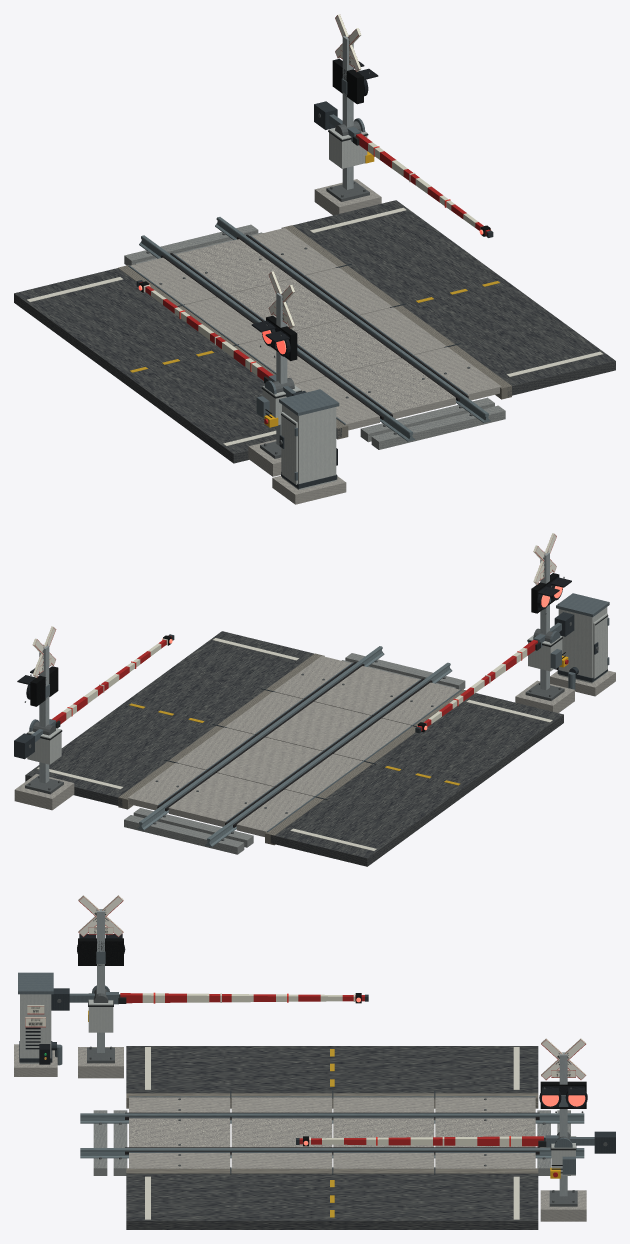
Rendered from PZ_Rail_Crossing_XR04.glb.
3 views of the same model, one above another, from view 1: azimuth 30°, elevation 25°; view 2: azimuth 150°, elevation 25°; view 3: azimuth 270°, elevation 25° (orthographic). The views are drawn at different scales.
Parts seen in each view (by area): view 1: Road_Approach_East, Road_Approach_West, Crossing_Panel_Centre_01, Crossing_Panel_Centre_04, Crossing_Panel_Centre_02, CTRL_Shell, Crossing_Panel_Centre_03, Track_Rail_Right_88m, Road_Concrete_Edge_East, Crossing_Panel_Outer_East_01, Track_Rail_Left_88m, Crossing_Panel_Outer_West_04 (+20 smaller); view 2: Road_Approach_West, Road_Approach_East, Crossing_Panel_Centre_04, Crossing_Panel_Centre_01, Crossing_Panel_Centre_02, Crossing_Panel_Centre_03, Track_Rail_Left_88m, Track_Rail_Right_88m, CTRL_Shell, Road_Concrete_Edge_East, Crossing_Panel_Outer_West_04, Crossing_Panel_Outer_East_04 (+24 smaller); view 3: Road_Approach_East, Road_Approach_West, Crossing_Panel_Centre_01, Crossing_Panel_Centre_02, Track_Rail_Left_88m, Track_Rail_Right_88m, Crossing_Panel_Centre_03, Crossing_Panel_Centre_04, Road_Concrete_Edge_East, Road_Concrete_Edge_West, Crossing_Panel_Outer_West_02, Crossing_Panel_Outer_West_03 (+22 smaller).
Part boxes in pixels (left/top/right/bottom): Road_Approach_East: left=293, top=200, right=615, bottom=396; Road_Approach_West: left=14, top=268, right=341, bottom=463; Crossing_Panel_Centre_01: left=338, top=358, right=455, bottom=418; Crossing_Panel_Centre_04: left=175, top=239, right=292, bottom=293; Crossing_Panel_Centre_02: left=295, top=318, right=400, bottom=373; CTRL_Shell: left=282, top=404, right=336, bottom=489; Crossing_Panel_Centre_03: left=230, top=278, right=346, bottom=331; Track_Rail_Right_88m: left=215, top=217, right=490, bottom=422; Road_Concrete_Edge_East: left=281, top=225, right=511, bottom=399; Crossing_Panel_Outer_East_01: left=414, top=347, right=501, bottom=400; Track_Rail_Left_88m: left=139, top=235, right=414, bottom=441; Crossing_Panel_Outer_West_04: left=128, top=257, right=216, bottom=304; Road_Approach_West: left=270, top=693, right=563, bottom=866; Road_Approach_East: left=25, top=631, right=314, bottom=806; Crossing_Panel_Centre_04: left=168, top=773, right=272, bottom=826; Crossing_Panel_Centre_01: left=314, top=666, right=419, bottom=715; Crossing_Panel_Centre_02: left=266, top=701, right=370, bottom=750; Crossing_Panel_Centre_03: left=217, top=737, right=321, bottom=786; Track_Rail_Left_88m: left=205, top=662, right=452, bottom=846; Track_Rail_Right_88m: left=137, top=646, right=384, bottom=830; CTRL_Shell: left=558, top=607, right=607, bottom=683; Road_Concrete_Edge_East: left=118, top=653, right=324, bottom=809; Crossing_Panel_Outer_West_04: left=236, top=789, right=315, bottom=836; Crossing_Panel_Outer_East_04: left=128, top=763, right=204, bottom=810; Road_Approach_East: left=126, top=1173, right=538, bottom=1229; Road_Approach_West: left=126, top=1046, right=538, bottom=1093; Crossing_Panel_Centre_01: left=129, top=1118, right=230, bottom=1147; Crossing_Panel_Centre_02: left=231, top=1118, right=332, bottom=1147; Track_Rail_Left_88m: left=80, top=1113, right=584, bottom=1123; Track_Rail_Right_88m: left=80, top=1148, right=584, bottom=1158; Crossing_Panel_Centre_03: left=333, top=1118, right=434, bottom=1147; Crossing_Panel_Centre_04: left=435, top=1118, right=535, bottom=1147; Road_Concrete_Edge_East: left=126, top=1168, right=538, bottom=1173; Road_Concrete_Edge_West: left=126, top=1093, right=538, bottom=1108; Crossing_Panel_Outer_West_02: left=231, top=1097, right=332, bottom=1112; Crossing_Panel_Outer_West_03: left=333, top=1097, right=434, bottom=1112.
Bounding box in the file's own units: 7.23 × 3.46 × 10.51.
3 materials, 2 textured.
